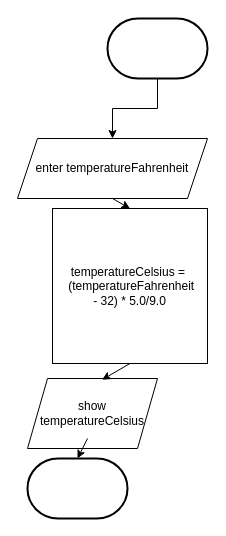
This 226x536 diagram has some shape labels left out. Each missing label, with the centre of its shape:
"Start" belongs at (157,48).
"Stop" belongs at (77,488).
